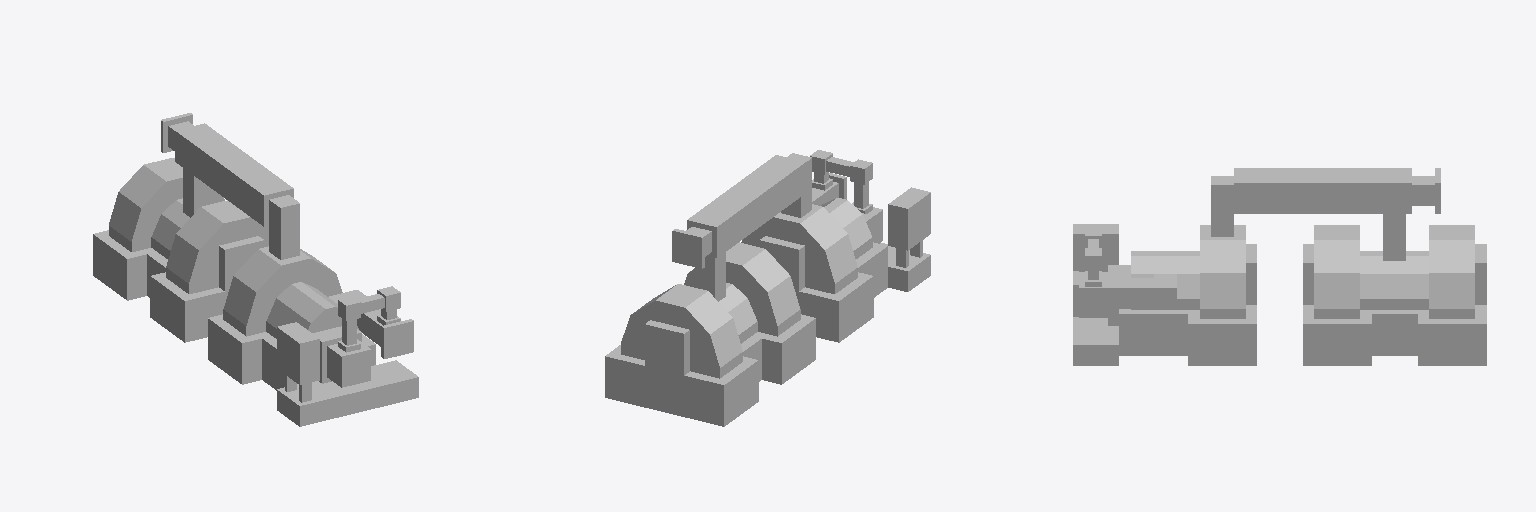
File: high_pressure_steam_turbine_mirrored.obj
3 renders of one model, left to right at view 1: azimuth 30°, elevation 25°; view 2: azimuth 150°, elevation 25°; view 3: azimuth 270°, elevation 25°, orthographic.
Parts seen in each view (by area): view 1: base; view 2: base; view 3: base.
Part boxes in pixels (bbox=[...]): base: bbox=[93, 113, 418, 426]; base: bbox=[605, 150, 930, 426]; base: bbox=[1073, 168, 1486, 365].
Bounding box in the file's own units: 3 × 3.88 × 9.